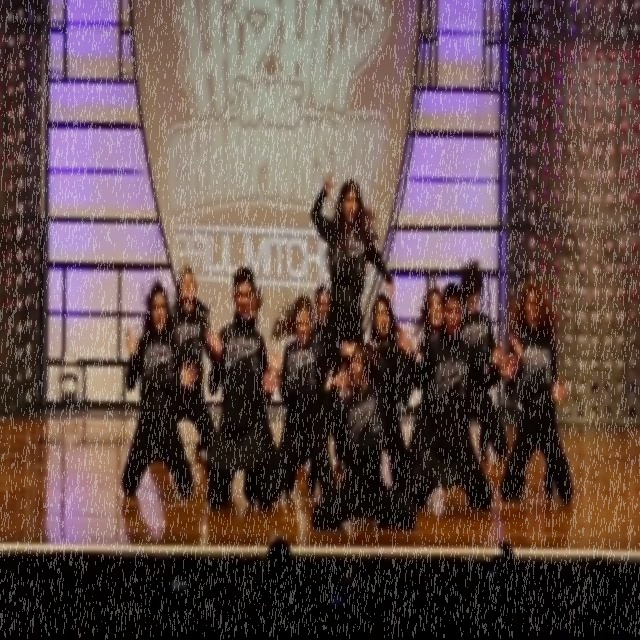pessoa: (406, 280, 519, 512), (310, 341, 418, 534), (202, 264, 284, 514), (119, 277, 202, 503), (497, 274, 576, 506), (308, 168, 396, 364), (277, 292, 353, 500), (454, 256, 510, 467), (370, 291, 420, 511), (168, 263, 220, 471), (238, 283, 268, 509), (414, 286, 444, 365), (310, 282, 332, 356)
